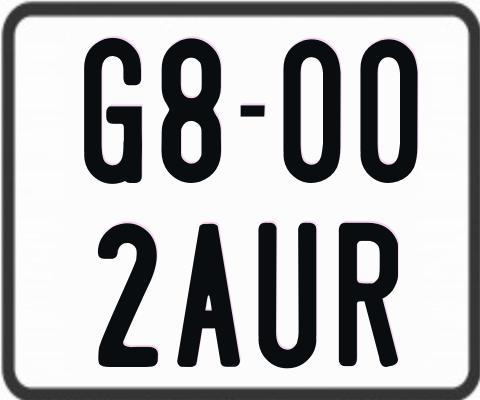0: (282, 39, 343, 189), (357, 38, 417, 188)
2: (96, 223, 159, 369)
8: (159, 35, 219, 180)
A: (174, 223, 239, 372)
G: (82, 38, 141, 189)
R: (339, 220, 401, 369)
U: (255, 223, 316, 374)
